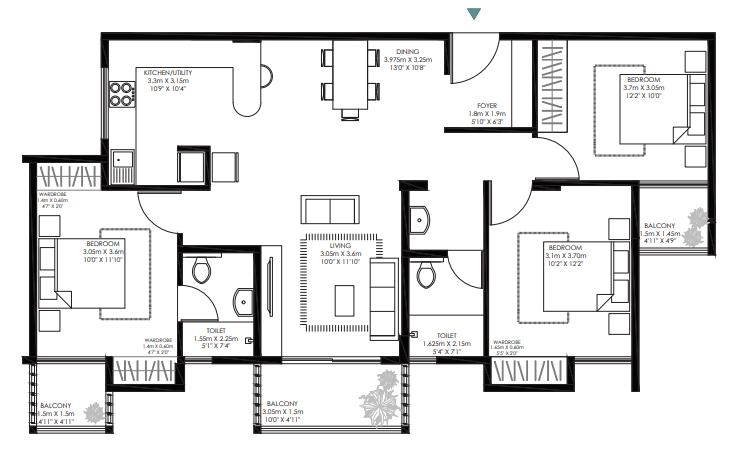Balcony: (262, 365, 401, 425), (38, 365, 105, 425)
Bed: (35, 238, 127, 309), (615, 73, 707, 144), (539, 244, 629, 313)
Bedroom: (493, 185, 629, 358), (37, 191, 179, 355), (566, 41, 708, 180)
Dining Room: (261, 41, 447, 167)
Dining table: (313, 37, 391, 130)
Foyer: (449, 41, 529, 129)
Kitchen: (109, 41, 261, 145)
Living Room: (279, 168, 403, 357)
Sofa: (370, 257, 401, 341), (301, 194, 361, 223)
Wardrobe: (537, 41, 566, 135), (511, 41, 531, 129), (490, 360, 565, 383), (38, 164, 99, 191), (114, 359, 175, 382)
commode: (192, 257, 212, 284), (420, 264, 435, 287)
door: (450, 33, 504, 85), (135, 188, 181, 237), (493, 180, 534, 226), (536, 137, 578, 177), (177, 286, 219, 322), (449, 250, 482, 288)
kitchen-slab: (109, 40, 259, 66), (109, 39, 135, 145), (232, 65, 262, 117)
sink: (110, 147, 135, 184), (406, 206, 433, 236), (234, 289, 255, 318)
stove: (110, 81, 137, 107)
toilet: (411, 254, 483, 356), (184, 253, 253, 356)
tv: (262, 253, 278, 329)
utility: (181, 143, 279, 248), (640, 187, 709, 249), (109, 147, 205, 189)
